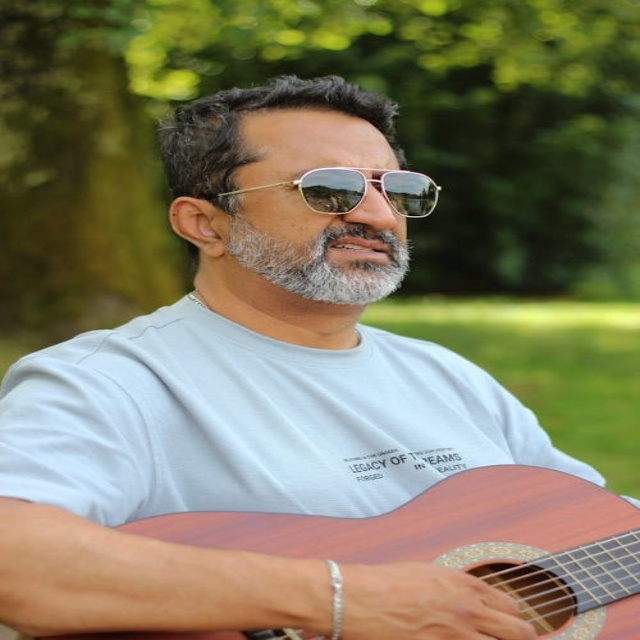Gafas: (201, 166, 444, 219)
Sin_guantes: (298, 543, 538, 637)
Sin_mascara: (297, 230, 404, 294)
